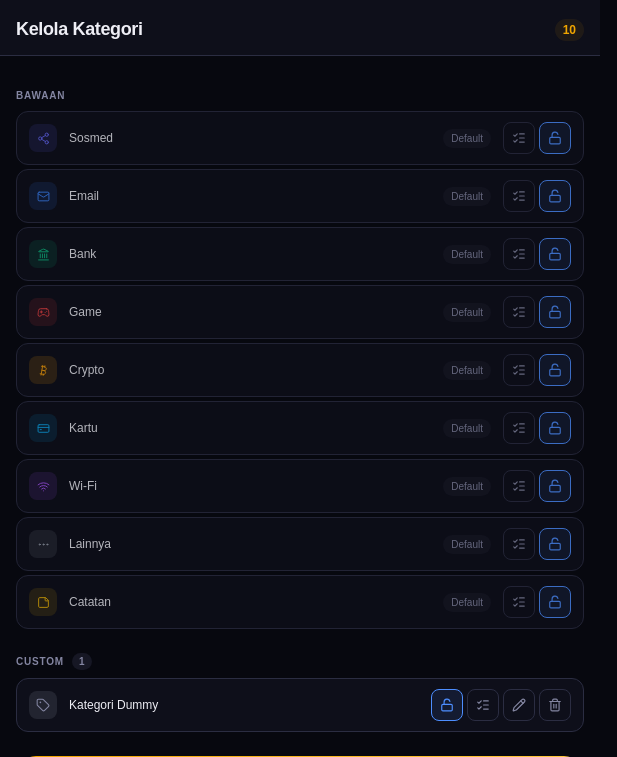
Test: CategoryManager — Lock/Unlock Kategori (v1.10.0) › mengunci kategori custom menonaktifkan tombol Edit & Hapus (atribut disabled)
Click the button named "Kunci kategori Kategori Dummy". click: {"x": 447, "y": 705}
box: [431,689,463,721]
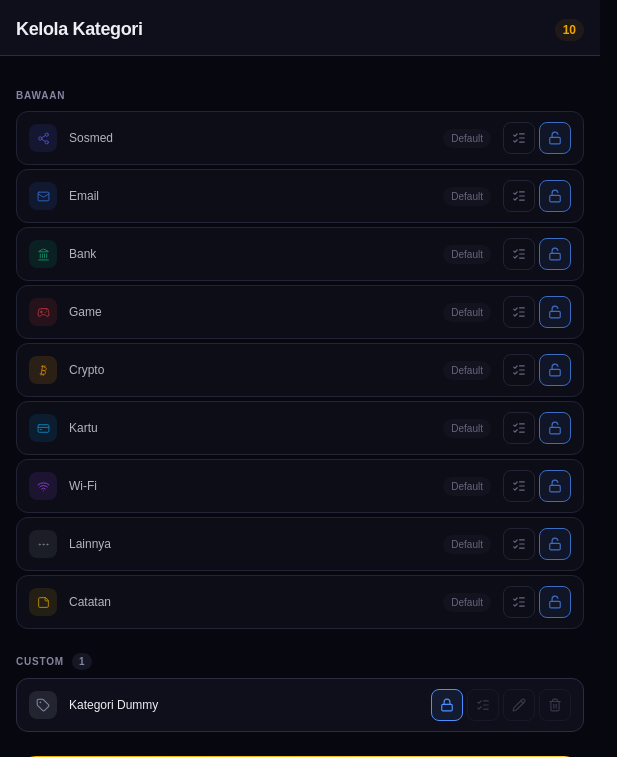
expect the button named "Edit Kategori Dummy" is disabled: met, box [503,689,535,721]
expect the button named "Hapus Kategori Dummy" is disabled: met, box [539,689,571,721]
